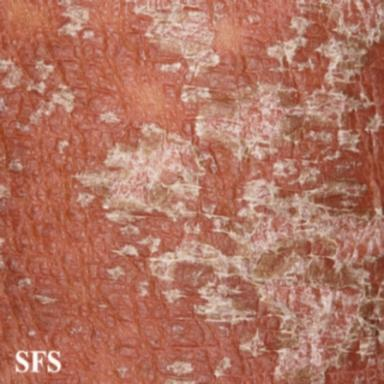Psoriasis: (66, 0, 379, 380), (0, 58, 74, 136), (58, 0, 89, 36), (337, 129, 360, 153), (365, 114, 384, 132), (34, 294, 57, 305), (100, 112, 121, 123), (8, 159, 23, 172), (57, 140, 69, 154), (0, 184, 11, 198), (83, 30, 95, 39)
